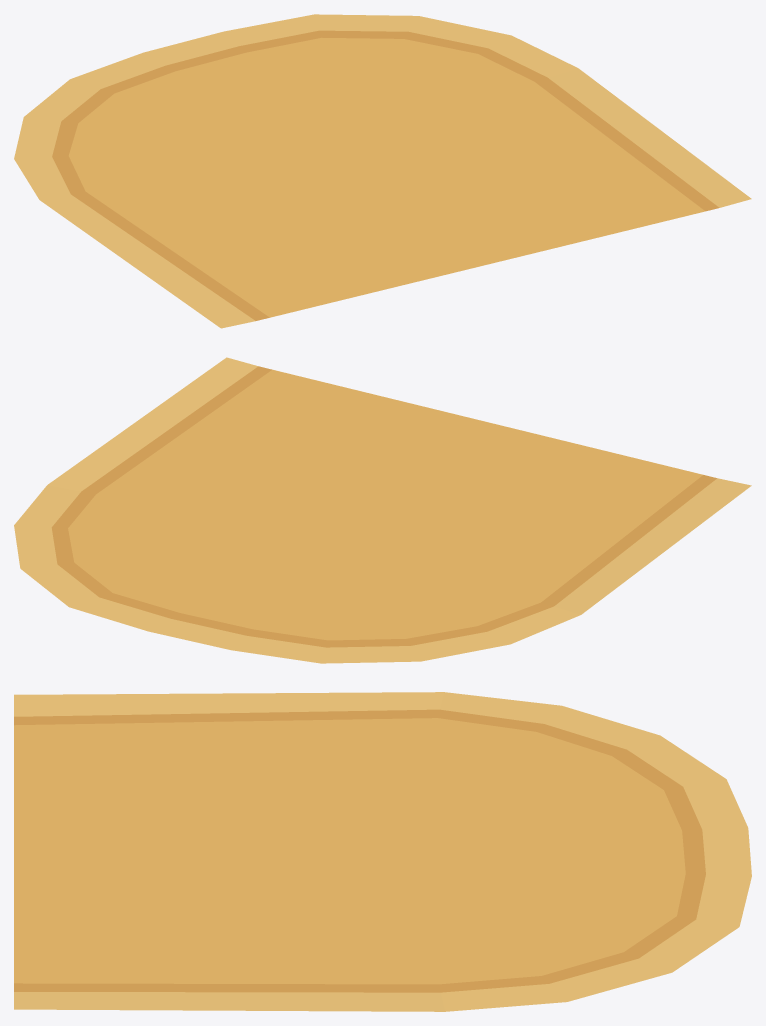
The model's file is FloorClose.fbx.
The picture shows the model from 3 angles, top to bottom: view 1: azimuth 30°, elevation 25°; view 2: azimuth 150°, elevation 25°; view 3: azimuth 270°, elevation 25°; orthographic projection. The views are drawn at different scales.
Visible parts, largest first — view 1: Plane.005; view 2: Plane.005; view 3: Plane.005.
Part boxes in pixels (box(x1,y1,x2,y2)): Plane.005: box(14, 14, 751, 328); Plane.005: box(14, 357, 751, 663); Plane.005: box(14, 692, 751, 1011).
Bounding box in the file's own units: 203 × 0.396 × 198.
